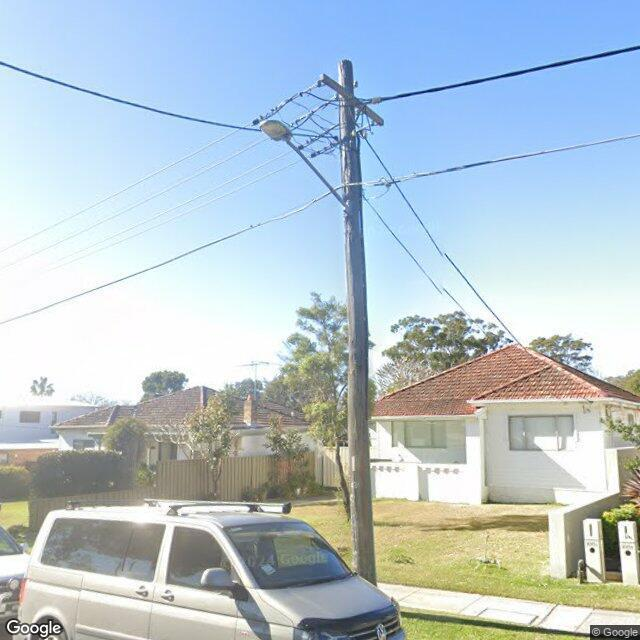crossarm: (319, 74, 384, 124)
streetlight: (261, 121, 351, 213)
timber-pole: (338, 58, 378, 585)
